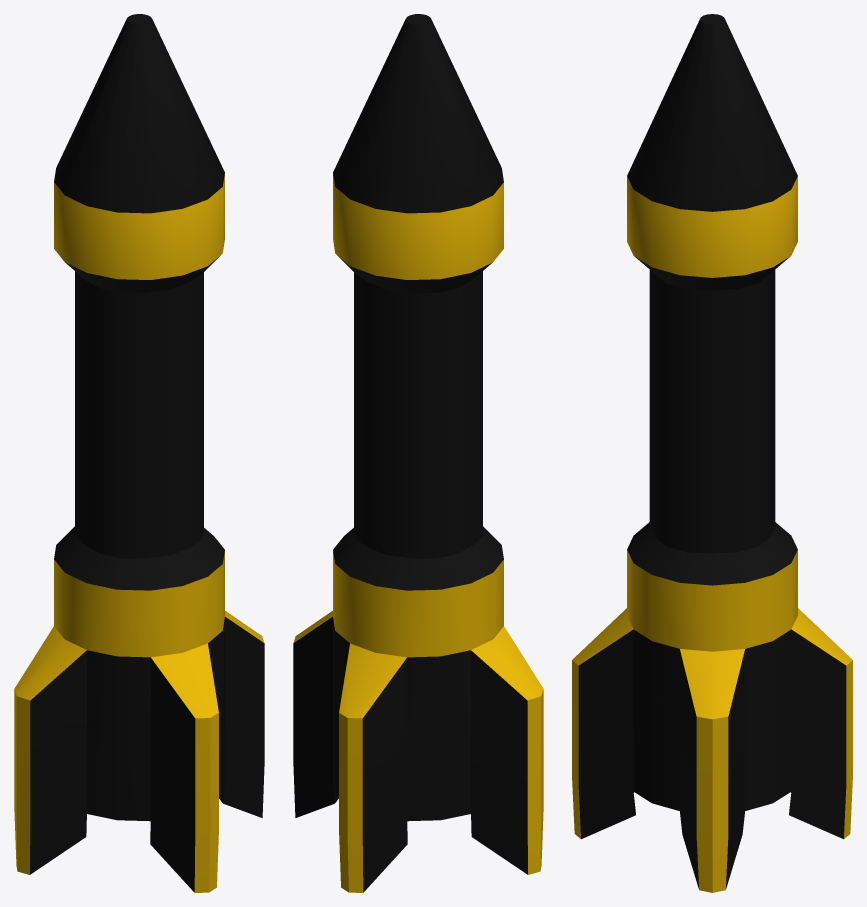
File: Ammo-Rocket-1.glb
3 renders of one model, left to right at view 1: azimuth 30°, elevation 25°; view 2: azimuth 150°, elevation 25°; view 3: azimuth 270°, elevation 25°, orthographic.
Visible parts, largest first — view 1: Ammo-Rocket-1.001; view 2: Ammo-Rocket-1.001; view 3: Ammo-Rocket-1.001.
Boxes of the visible parts, <box> form: Ammo-Rocket-1.001: <box>14,14,264,892</box>; Ammo-Rocket-1.001: <box>293,14,543,892</box>; Ammo-Rocket-1.001: <box>572,14,852,892</box>.
Bounding box in the file's own units: 0.0464 × 0.1484 × 0.0464.
